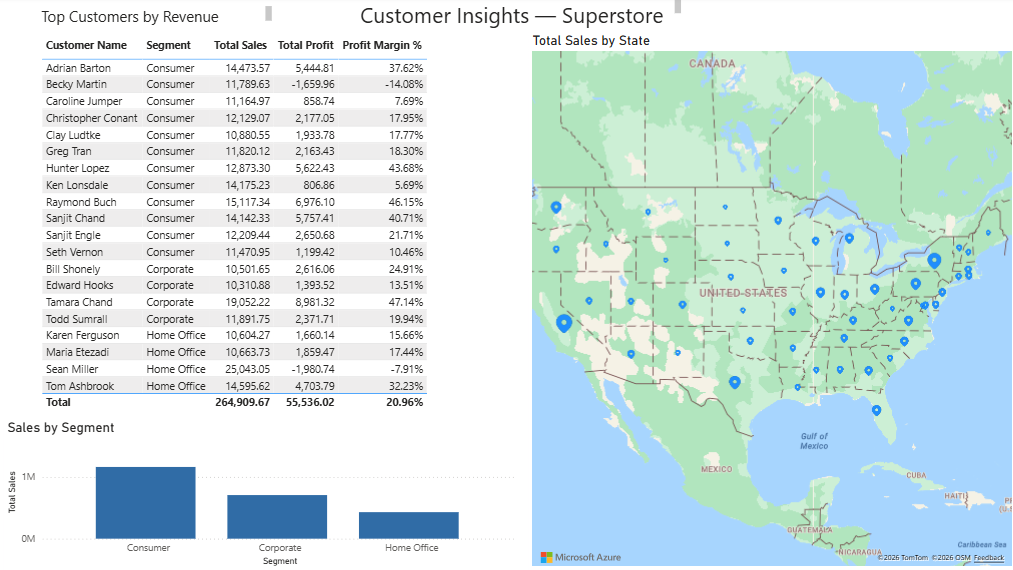

This screenshot's page, from the dashboard's own definition file:
{"tool":"powerbi","page":{"name":"Customer Insights","canvas":[1280,720],"ordinal":2},"visuals":[{"type":"tableEx","fields":{"Values":["DimCustomer.Customer Name","DimCustomer.Segment","FactSales.Total Sales","FactSales.Total Profit","FactSales.Profit Margin %"]},"box":[51.8,45.5,564.8,497.4],"z":0},{"type":"clusteredColumnChart","title":"Sales by Segment","fields":{"Category":["DimCustomer.Segment"],"Y":["FactSales.Total Sales"]},"box":[9.4,531.9,649.6,188.3],"z":1000},{"type":"azureMap","title":"Total Sales by State","fields":{"Category":["DimRegion.State"],"Size":["FactSales.Total Sales"]},"box":[668.4,45.5,611.9,674.7],"z":2000},{"type":"textbox","box":[451.9,0,412.7,45.5],"z":3000},{"type":"textbox","box":[51.8,7.8,299.7,37.7],"z":4000}]}

Visuals, with their boxes in screenshot pixels (x1, y1, x2, y2), scaled from the page's 1280x720 canvas onto the 1013x570 screenshot:
tableEx - DimCustomer.Customer Name x DimCustomer.Segment: x1=41 y1=36 x2=488 y2=430
"Sales by Segment" clusteredColumnChart: x1=7 y1=421 x2=522 y2=569
"Total Sales by State" azureMap: x1=529 y1=36 x2=1012 y2=569
textbox: x1=358 y1=0 x2=684 y2=36
textbox: x1=41 y1=6 x2=278 y2=36
